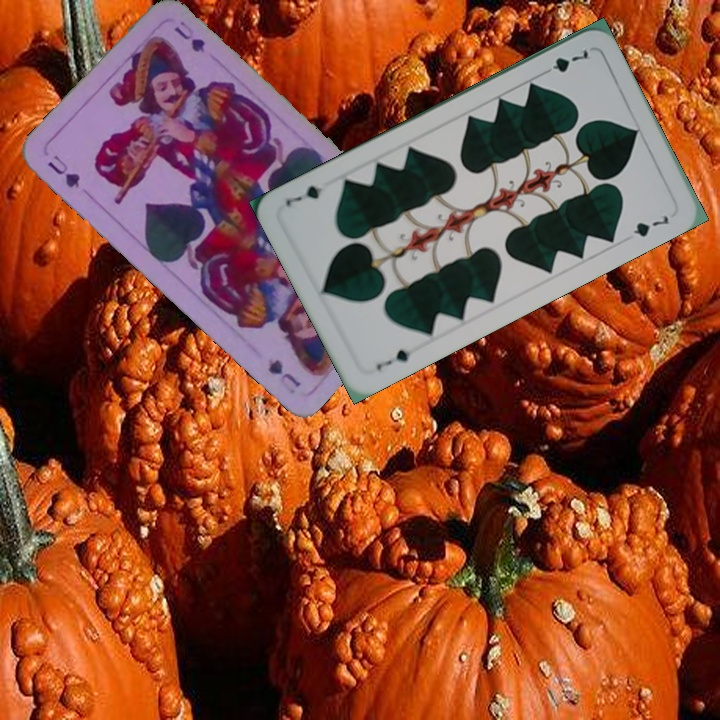G7: (538, 45, 591, 78), (372, 345, 413, 373)
GU: (43, 151, 83, 191)
